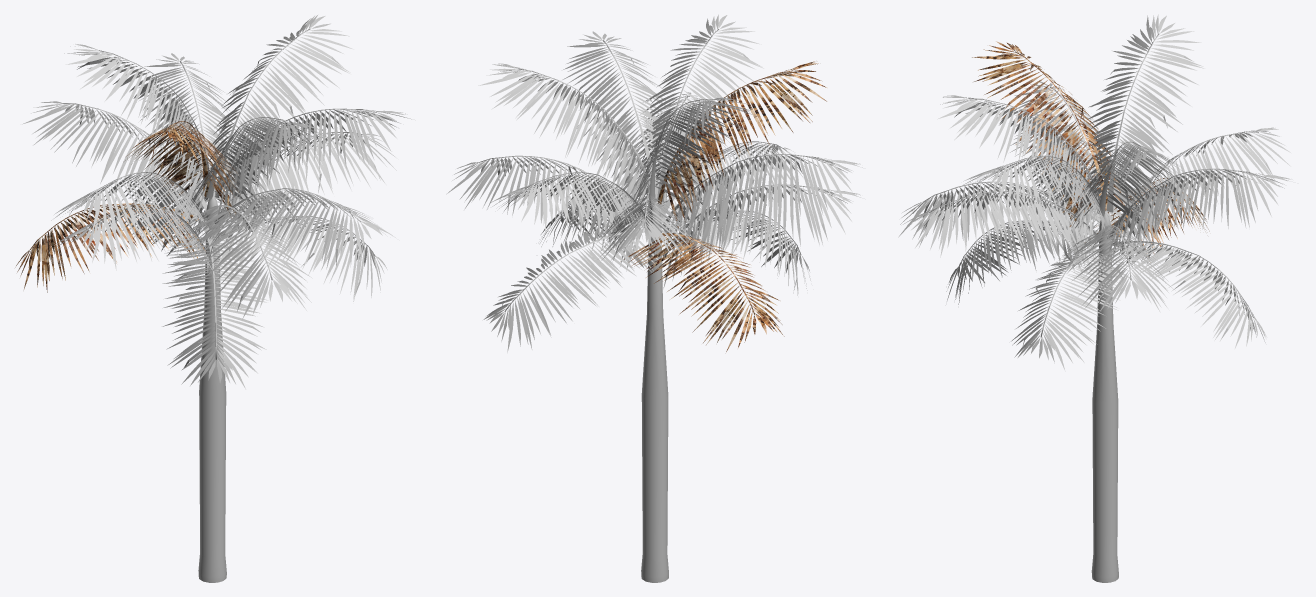
3 renders of one model, left to right at view 1: azimuth 30°, elevation 25°; view 2: azimuth 150°, elevation 25°; view 3: azimuth 270°, elevation 25°, orthographic. The views are drawn at different scales.
Visible parts, largest first — view 1: Group_29_001, coco_leaf_005, coco_leaf_011, coco_leaf_007, coco_leaf_013, coco_leaf_015, coco_leaf_001, coco_leaf_027, coco_leaf_009, coco_leaf_021, coco_leaf_019, coco_leaf_003 (+4 smaller); view 2: Group_29_001, coco_leaf_011, coco_leaf_017, coco_leaf_009, coco_leaf_031, coco_leaf_019, coco_leaf_029, coco_leaf_013, coco_leaf_025, coco_leaf_021, coco_leaf_027, coco_leaf_023 (+5 smaller); view 3: Group_29_001, coco_leaf_027, coco_leaf_023, coco_leaf_015, coco_leaf_031, coco_leaf_029, coco_leaf_003, coco_leaf_017, coco_leaf_001, coco_leaf_021, coco_leaf_007, coco_leaf_013 (+5 smaller).
Part boxes in pixels (<box>): Group_29_001: <box>198,196,226,582</box>; coco_leaf_005: <box>162,229,268,389</box>; coco_leaf_011: <box>202,15,353,213</box>; coco_leaf_007: <box>173,205,312,319</box>; coco_leaf_013: <box>214,108,411,223</box>; coco_leaf_015: <box>198,188,395,269</box>; coco_leaf_001: <box>22,101,207,246</box>; coco_leaf_027: <box>64,44,210,215</box>; coco_leaf_009: <box>51,172,219,247</box>; coco_leaf_021: <box>201,132,396,252</box>; coco_leaf_019: <box>15,203,205,292</box>; coco_leaf_003: <box>217,216,387,301</box>; Group_29_001: <box>641,203,668,582</box>; coco_leaf_011: <box>478,63,650,222</box>; coco_leaf_017: <box>483,224,662,352</box>; coco_leaf_009: <box>663,154,862,256</box>; coco_leaf_031: <box>657,61,826,232</box>; coco_leaf_019: <box>620,233,784,351</box>; coco_leaf_029: <box>638,14,763,215</box>; coco_leaf_013: <box>562,31,685,209</box>; coco_leaf_025: <box>662,184,860,288</box>; coco_leaf_021: <box>446,155,647,257</box>; coco_leaf_027: <box>632,97,755,225</box>; coco_leaf_023: <box>491,172,663,255</box>; Group_29_001: <box>1091,212,1118,582</box>; coco_leaf_027: <box>1083,14,1204,223</box>; coco_leaf_023: <box>1105,168,1292,265</box>; coco_leaf_015: <box>903,191,1101,269</box>; coco_leaf_031: <box>972,41,1124,226</box>; coco_leaf_029: <box>937,95,1100,237</box>; coco_leaf_003: <box>1011,249,1133,371</box>; coco_leaf_017: <box>1094,241,1266,348</box>; coco_leaf_001: <box>1111,127,1290,268</box>; coco_leaf_021: <box>1062,225,1175,313</box>; coco_leaf_007: <box>898,181,1100,263</box>; coco_leaf_013: <box>962,155,1109,239</box>.
Bounding box in the file's own units: 182 × 253 × 181.
